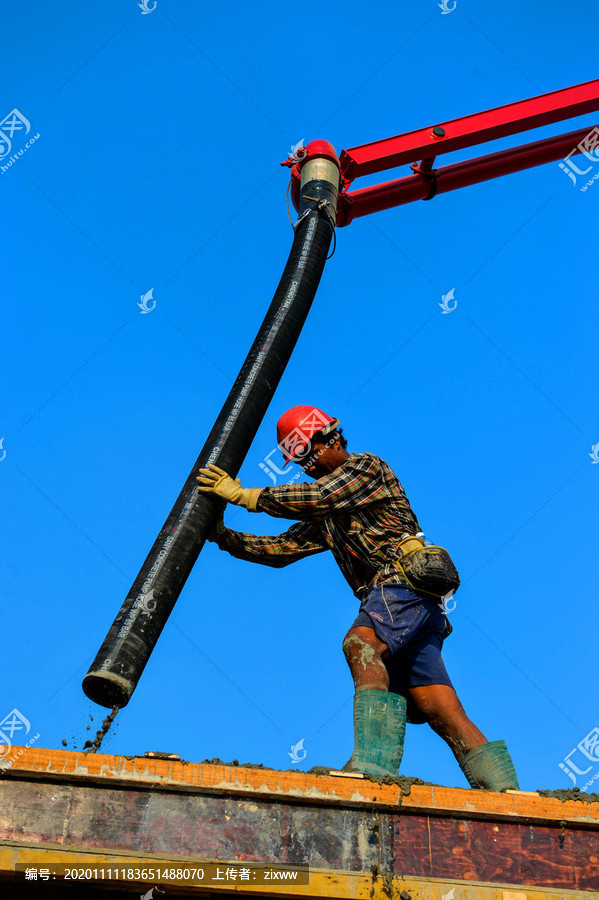safetyhat: (239, 391, 490, 762)
